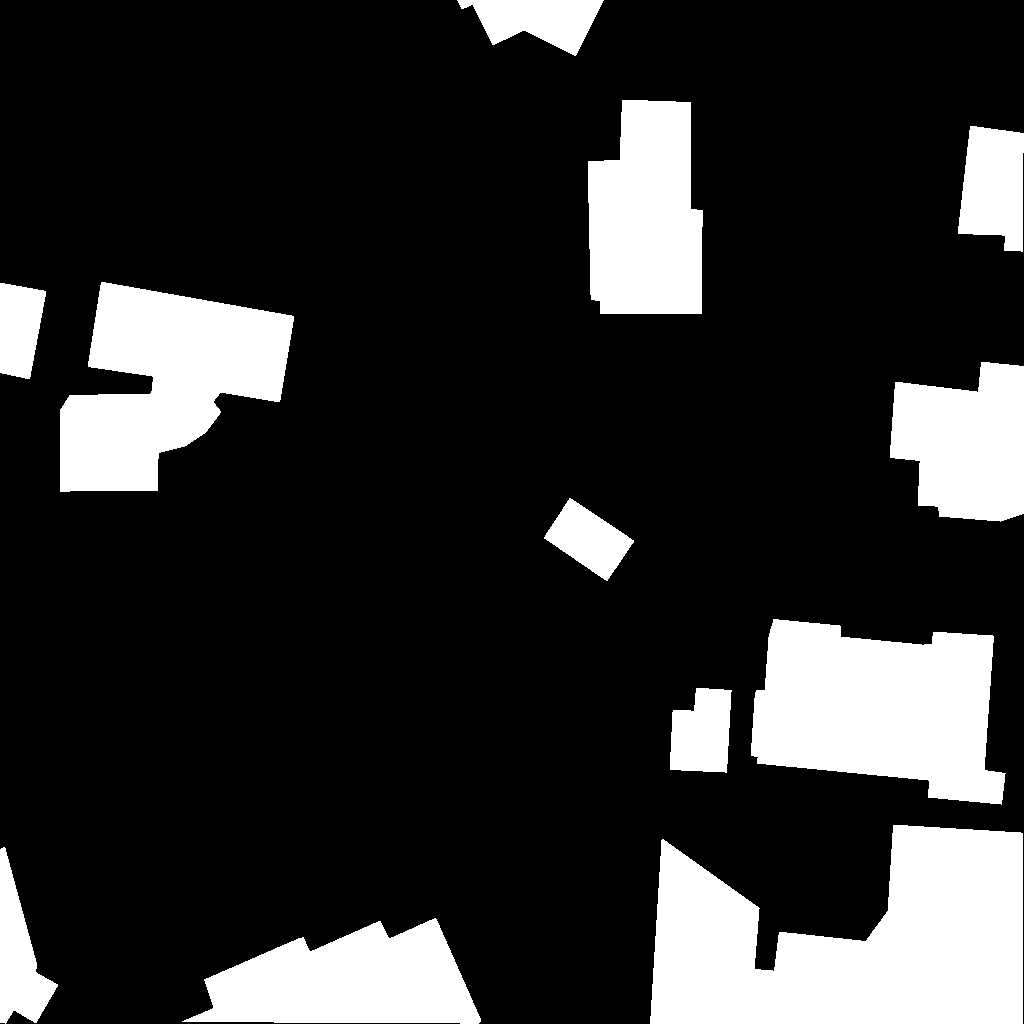building: (650, 825, 1024, 1024), (60, 282, 295, 492), (751, 619, 1006, 805), (181, 918, 482, 1024), (588, 100, 703, 314), (890, 362, 1024, 522), (0, 847, 59, 1024), (457, 0, 605, 57), (958, 126, 1024, 252), (544, 498, 635, 582), (670, 688, 732, 773), (0, 283, 47, 380)
